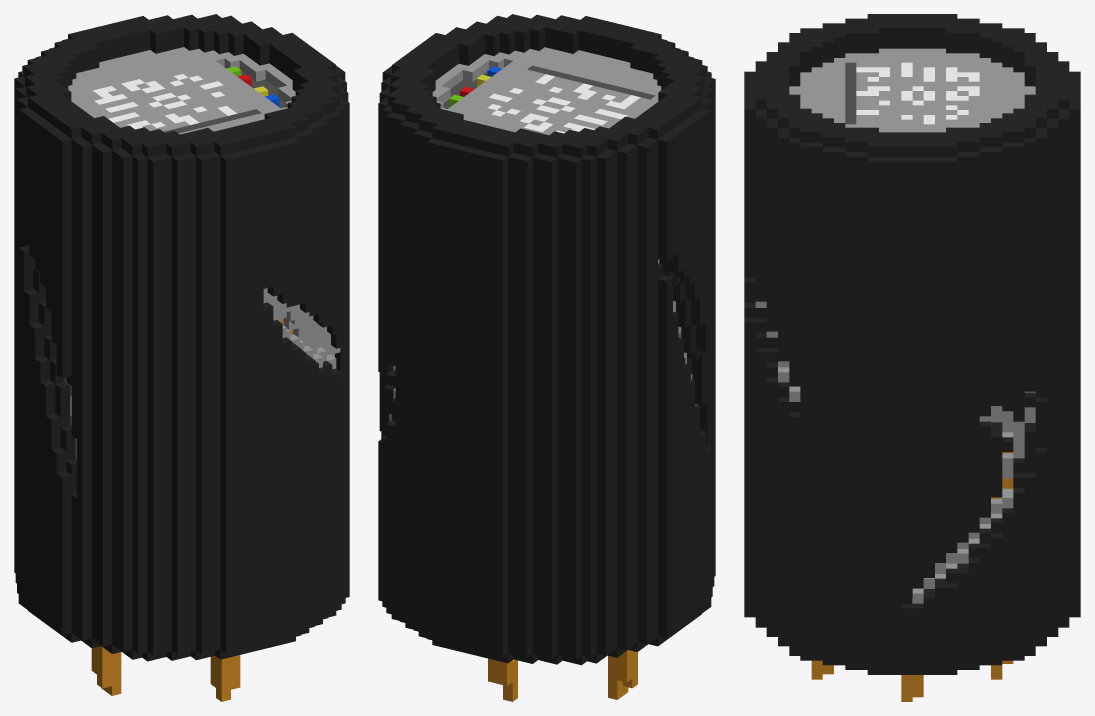
File: GORODITH_cylinder.obj
3 renders of one model, left to right at view 1: azimuth 30°, elevation 25°; view 2: azimuth 150°, elevation 25°; view 3: azimuth 270°, elevation 25°, orthographic. The views are drawn at different scales.
Bounding box in the file's own units: 3 × 6 × 3.
1 material, 1 textured.
